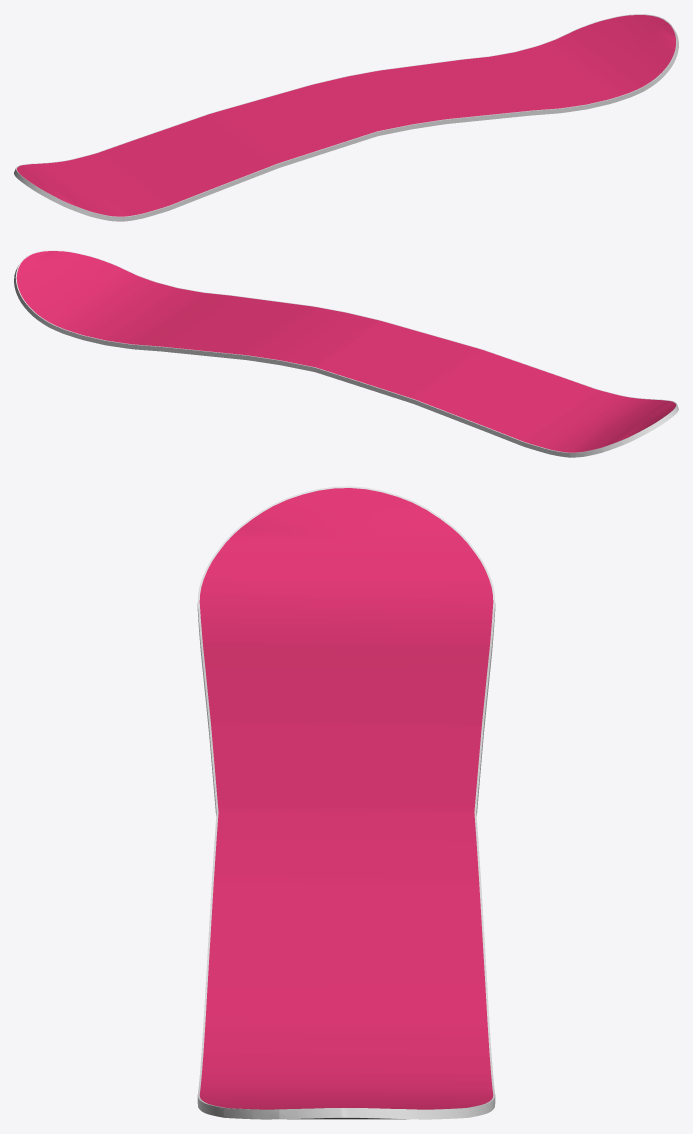
Rendered from board_twin-tip_camber.gltf.
3 views of the same model, one above another, from view 1: azimuth 30°, elevation 25°; view 2: azimuth 150°, elevation 25°; view 3: azimuth 270°, elevation 25° (orthographic). The views are drawn at different scales.
Parts seen in each view (by area): view 1: board-top, board-edge; view 2: board-top, board-edge; view 3: board-top, board-edge.
Part boxes in pixels (x1,y1,x2,y2): board-top: [17, 15, 675, 216]; board-edge: [14, 14, 678, 221]; board-top: [16, 251, 675, 452]; board-edge: [14, 250, 678, 457]; board-top: [199, 488, 493, 1109]; board-edge: [197, 486, 495, 1119].
Size of the model in its own units: 1.51 by 0.0753 by 0.3009.
